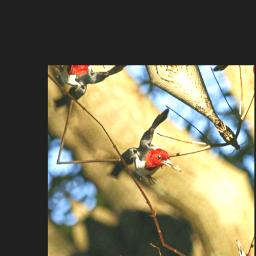Woodpecker: (97, 100, 209, 211)
